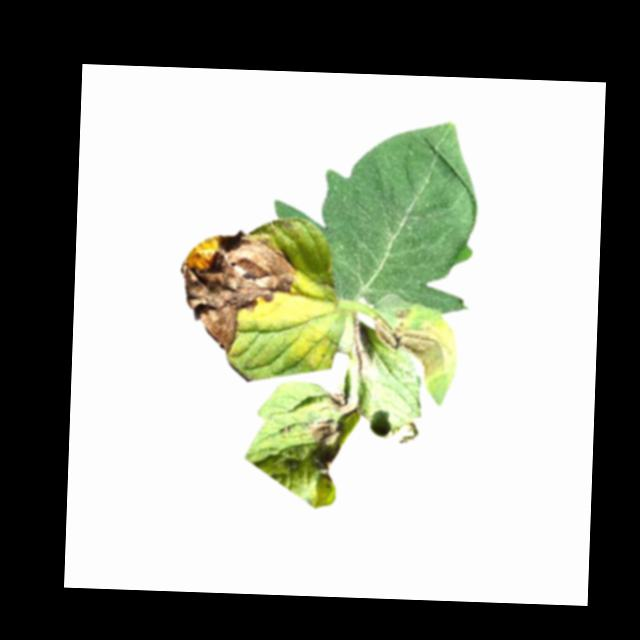Late_blight: (178, 228, 300, 356), (369, 313, 456, 380), (305, 412, 345, 485), (349, 314, 378, 380), (323, 390, 363, 416), (386, 422, 419, 447), (392, 306, 412, 319)
